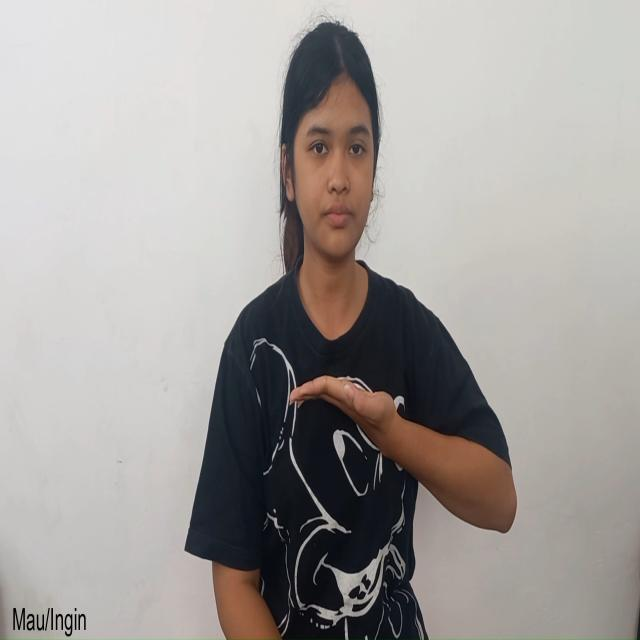Mau-Ingin -BISINDO-: (285, 348, 530, 540)
